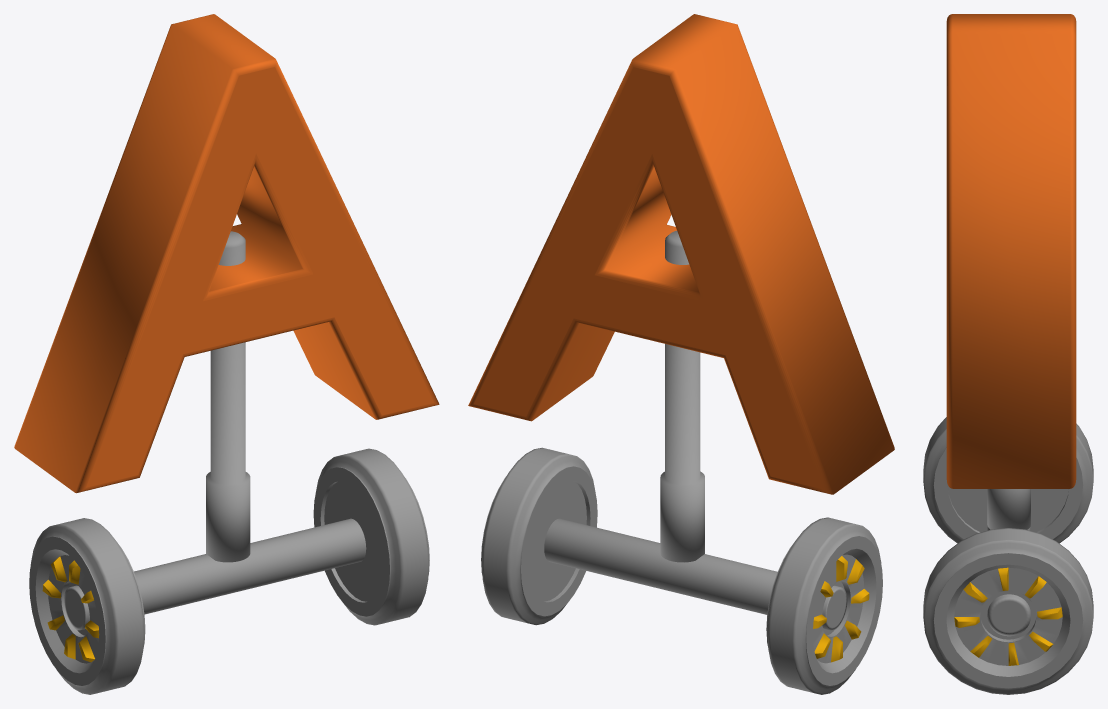
Rendered from skinID4.fbx.
The picture shows the model from 3 angles, left to right: view 1: azimuth 30°, elevation 25°; view 2: azimuth 150°, elevation 25°; view 3: azimuth 270°, elevation 25°; orthographic projection. The views are drawn at different scales.
Visible parts, largest first — view 1: Text, Cylinder, Cylinder.001, Cylinder.002; view 2: Text, Cylinder, Cylinder.001, Cylinder.002; view 3: Text, Cylinder, Cylinder.002, Cylinder.001.
Part boxes in pixels (x1,y1,x2,y2): Text: [14, 14, 439, 493]; Cylinder: [29, 448, 429, 694]; Cylinder.001: [64, 518, 366, 630]; Cylinder.002: [206, 231, 250, 562]; Text: [468, 14, 894, 494]; Cylinder: [481, 447, 882, 694]; Cylinder.001: [544, 518, 847, 630]; Cylinder.002: [660, 230, 704, 562]; Text: [946, 14, 1076, 488]; Cylinder: [923, 417, 1093, 694]; Cylinder.002: [987, 489, 1030, 529]; Cylinder.001: [987, 525, 1030, 636].
Bounding box in the file's own units: 512 × 819 × 212.
